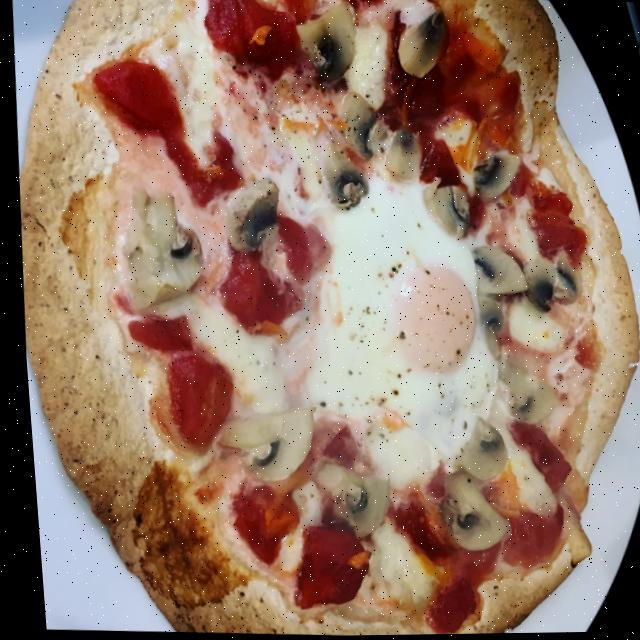mushrooms: (117, 195, 198, 306), (466, 251, 572, 314), (226, 407, 314, 478), (390, 4, 447, 80), (497, 369, 555, 442), (301, 6, 352, 88), (466, 245, 525, 304), (439, 488, 498, 544), (331, 476, 383, 538), (228, 181, 276, 248), (450, 424, 499, 483), (465, 152, 518, 204), (427, 184, 466, 242), (327, 166, 370, 213), (329, 91, 363, 149), (473, 302, 496, 336)
pizza: (0, 0, 640, 640)
